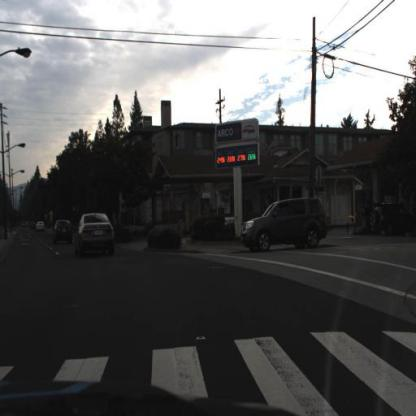car: (237, 195, 331, 255), (74, 211, 118, 258), (53, 215, 76, 250), (53, 219, 76, 249), (36, 218, 49, 236)
